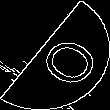O_NW: (17, 23, 93, 87)
